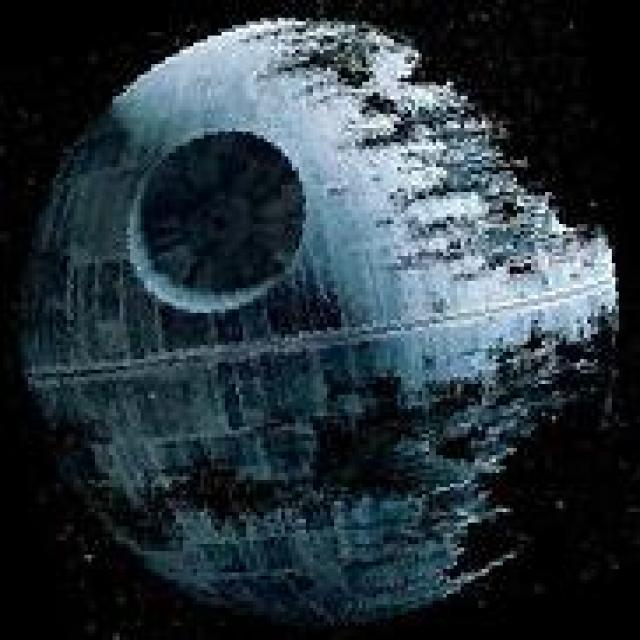Death Star: (10, 11, 619, 622)
